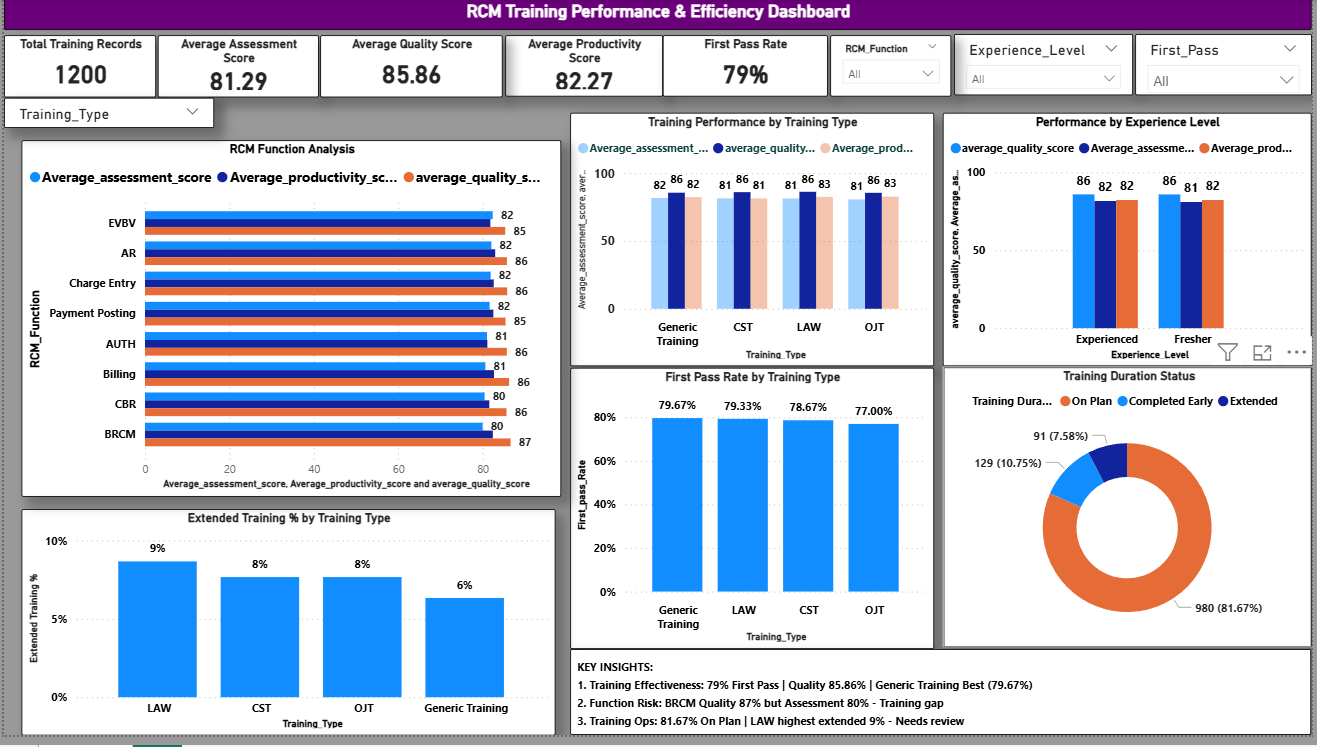

The page's visual inventory and layout, read from the dashboard file:
{"tool":"powerbi","page":{"name":"Page 1","canvas":[1280,720],"ordinal":0},"visuals":[{"type":"card","title":"Total Training Records","fields":{"Values":["Table1.Total_Training_records"]},"box":[0,35.5,149.2,61.1],"z":0},{"type":"card","title":"Average Productivity Score","fields":{"Values":["Table1.Average_productivity_score"]},"box":[490.4,35.5,154.1,59.9],"z":1},{"type":"card","title":"First Pass Rate","fields":{"Values":["Table1.First_pass_Rate"]},"box":[644.4,35.5,161.4,59.9],"z":2},{"type":"card","title":"Average Assessment Score","fields":{"Values":["Table1.Average_assessment_score"]},"box":[150.4,35.5,157.7,61.1],"z":3},{"type":"card","title":"Average Quality Score","fields":{"Values":["Table1.average_quality_score"]},"box":[309.4,35.5,178.5,61.1],"z":4},{"type":"clusteredColumnChart","title":"Training Performance by Training Type","fields":{"Category":["Table1.Training_Type"],"Y":["Table1.Average_assessment_score","Table1.average_quality_score","Table1.Average_productivity_score"]},"box":[553.9,111.3,355.8,248.2],"z":5},{"type":"clusteredColumnChart","title":"First Pass Rate by Training Type","fields":{"Category":["Table1.Training_Type"],"Y":["Table1.First_pass_Rate"]},"box":[553.9,360.7,355.8,275.1],"z":6},{"type":"clusteredColumnChart","title":"Extended Training % by Training Type","fields":{"Category":["Table1.Training_Type"],"Y":["Table1.Extended Training %"]},"box":[17.1,498.9,522.1,221.3],"z":7},{"type":"clusteredColumnChart","title":"Performance by Experience Level","fields":{"Y":["Table1.average_quality_score","Table1.Average_assessment_score","Table1.Average_productivity_score"],"Category":["Table1.Experience_Level"]},"box":[918.3,111.3,360.7,248.2],"z":9},{"type":"clusteredBarChart","title":"RCM Function Analysis","fields":{"Y":["Table1.Average_assessment_score","Table1.Average_productivity_score","Table1.average_quality_score"],"Category":["Table1.RCM_Function"]},"box":[17.1,138.2,528.3,348.5],"z":12},{"type":"donutChart","title":"Training Duration Status","fields":{"Category":["Table1.Training Duration Category"],"Y":["CountNonNull(Table1.Training_Record_ID)"]},"box":[918.3,359.5,362,275.1],"z":13},{"type":"slicer","fields":{"Values":["Table1.Experience_Level"]},"box":[929.4,34.2,174.9,59.9],"z":14},{"type":"slicer","fields":{"Values":["Table1.Training_Type"]},"box":[0,96.6,205.4,29.3],"z":15},{"type":"slicer","fields":{"Values":["Table1.RCM_Function"]},"box":[808.3,35.5,118.6,59.9],"z":16},{"type":"slicer","fields":{"Values":["Table1.First_Pass"]},"box":[1106.7,34.2,172.4,59.9],"z":17},{"type":"textbox","title":"RCM Training Performance & Efficiency Dashboard","box":[0,0,1279.1,30.6],"z":18},{"type":"textbox","box":[553.9,635.9,725.1,84.4],"z":19}]}

Visuals, with their boxes in screenshot pixels (x1, y1, x2, y2), scaled from the page's 1280x720 canvas onto the 1317x747 screenshot:
"Total Training Records" card: Rect(0, 37, 154, 100)
"Average Productivity Score" card: Rect(505, 37, 663, 99)
"First Pass Rate" card: Rect(663, 37, 829, 99)
"Average Assessment Score" card: Rect(155, 37, 317, 100)
"Average Quality Score" card: Rect(318, 37, 502, 100)
"Training Performance by Training Type" clusteredColumnChart: Rect(570, 115, 936, 373)
"First Pass Rate by Training Type" clusteredColumnChart: Rect(570, 374, 936, 660)
"Extended Training % by Training Type" clusteredColumnChart: Rect(18, 518, 555, 746)
"Performance by Experience Level" clusteredColumnChart: Rect(945, 115, 1316, 373)
"RCM Function Analysis" clusteredBarChart: Rect(18, 143, 561, 505)
"Training Duration Status" donutChart: Rect(945, 373, 1316, 658)
slicer - Table1.Experience_Level: Rect(956, 35, 1136, 98)
slicer - Table1.Training_Type: Rect(0, 100, 211, 131)
slicer - Table1.RCM_Function: Rect(832, 37, 954, 99)
slicer - Table1.First_Pass: Rect(1139, 35, 1316, 98)
"RCM Training Performance & Efficiency Dashboard" textbox: Rect(0, 0, 1316, 32)
textbox: Rect(570, 660, 1316, 746)
